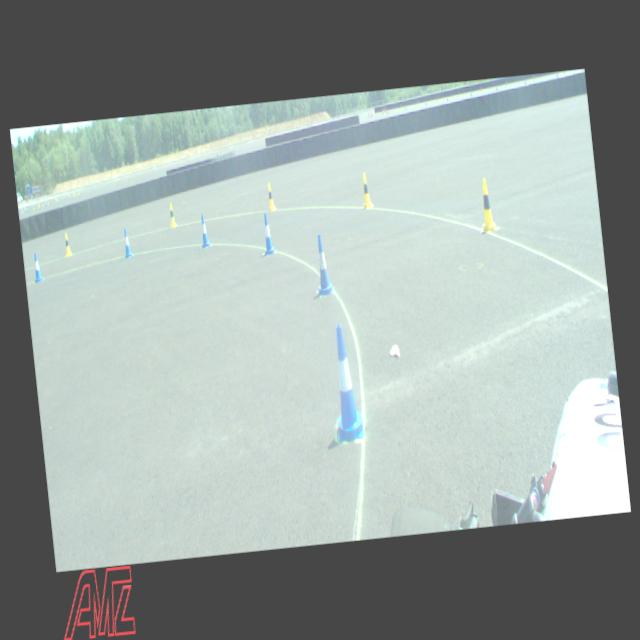blue_cone: (327, 324, 364, 442), (312, 232, 332, 296), (260, 212, 274, 256), (198, 214, 210, 248), (31, 252, 43, 283), (122, 227, 132, 257)
yellow_cone: (477, 177, 496, 232), (358, 172, 372, 208), (266, 182, 275, 210), (62, 232, 72, 256), (168, 202, 176, 226)
